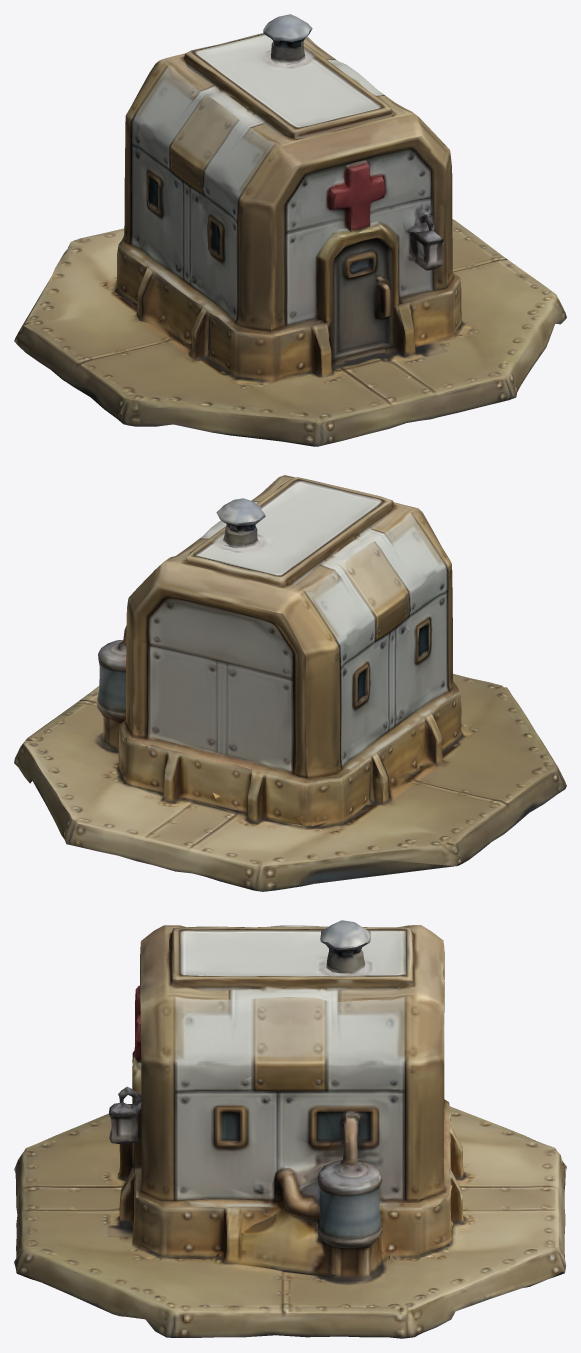
Rendered from Brasswake hospital module.glb.
3 views of the same model, one above another, from view 1: azimuth 30°, elevation 25°; view 2: azimuth 150°, elevation 25°; view 3: azimuth 270°, elevation 25° (orthographic). The views are drawn at different scales.
Parts seen in each view (by area): view 1: ClinicBuilding; view 2: ClinicBuilding; view 3: ClinicBuilding.
Boxes of the visible parts, left/top/right/bottom form: ClinicBuilding: left=14, top=14, right=566, bottom=446; ClinicBuilding: left=14, top=475, right=566, bottom=891; ClinicBuilding: left=14, top=920, right=566, bottom=1338.
Size of the model in its own units: 1.2 by 0.7435 by 1.2.
1 material, 1 textured.
